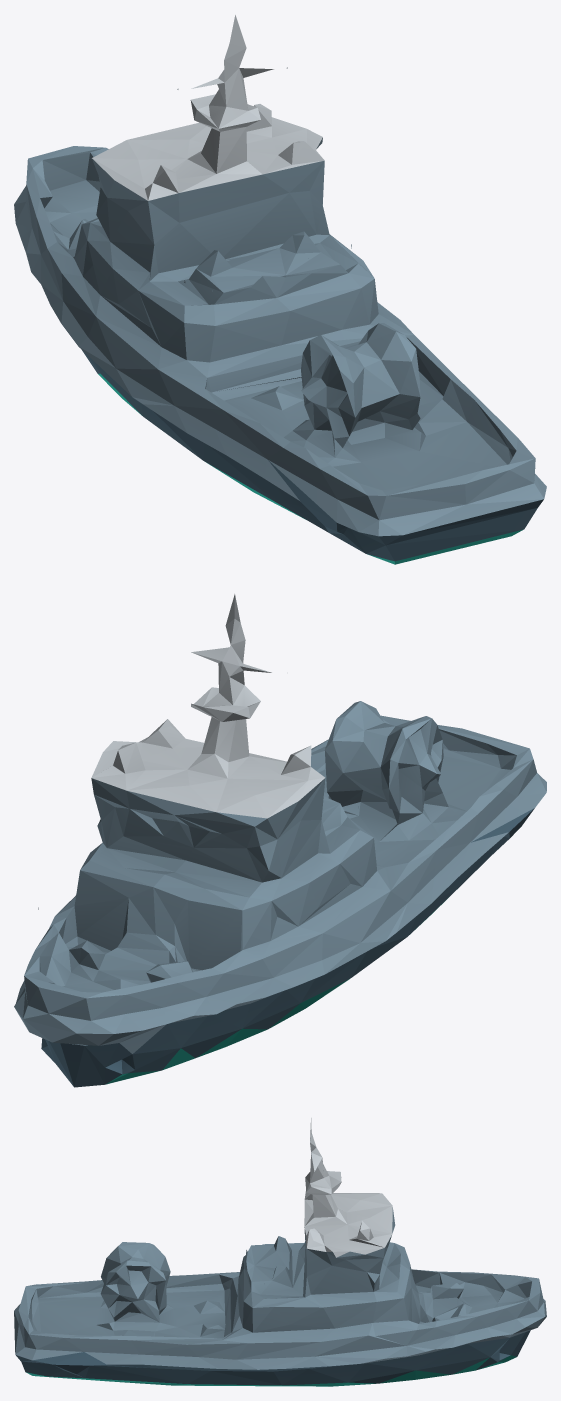
The model's file is tug.glb.
The picture shows the model from 3 angles, top to bottom: view 1: azimuth 30°, elevation 25°; view 2: azimuth 150°, elevation 25°; view 3: azimuth 270°, elevation 25°; orthographic projection. The views are drawn at different scales.
Parts seen in each view (by area): view 1: lod0; view 2: lod0; view 3: lod0.
Boxes of the visible parts, x1,y1,x2,y2 form: lod0: (14,15,546,564); lod0: (14,594,546,1087); lod0: (14,1118,546,1386).
Size of what is drawn, in the model's own units: 0.353 by 0.4964 by 0.9941.
